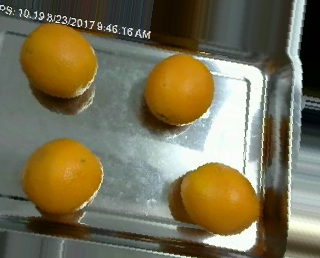Orange: (20, 138, 103, 216), (18, 22, 98, 99), (180, 163, 262, 236), (143, 52, 215, 126)
